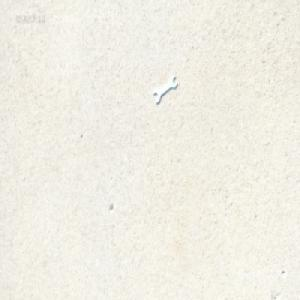Wrench: (153, 74, 177, 105)
